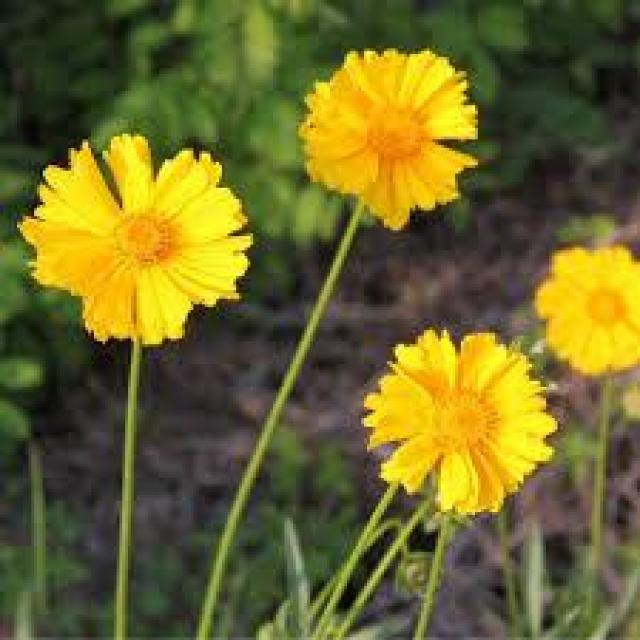organic waste: (23, 124, 247, 334), (364, 323, 549, 519), (295, 40, 482, 222), (532, 229, 640, 377)
